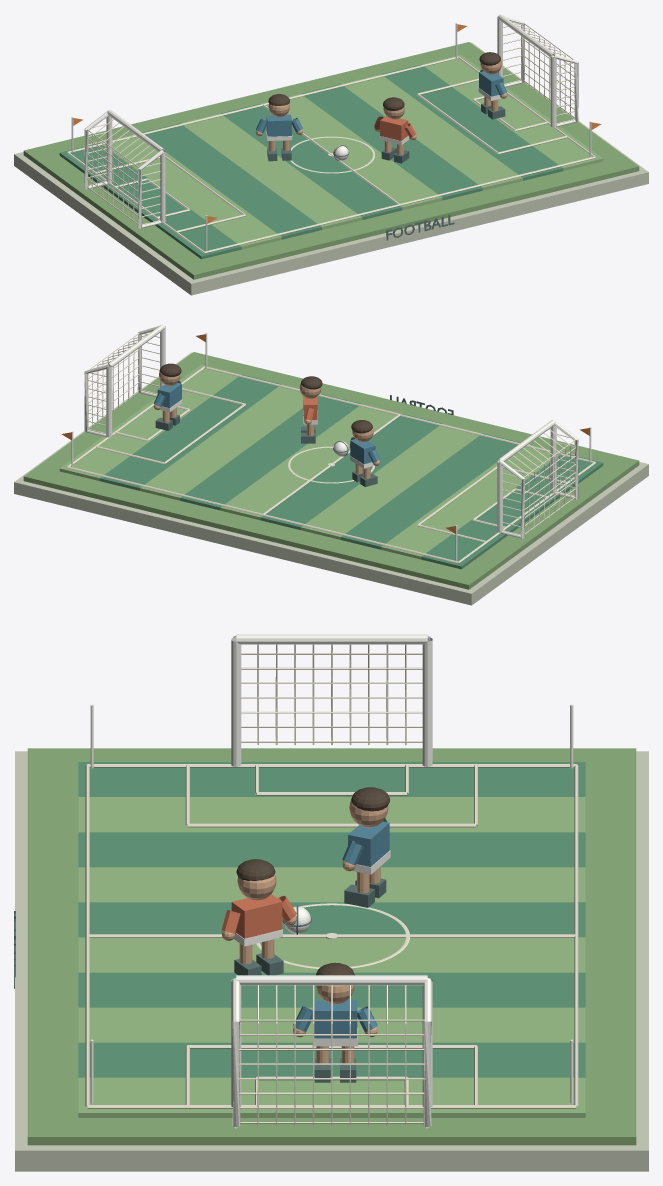
Rendered from football-pitch.glb.
3 views of the same model, one above another, from view 1: azimuth 30°, elevation 25°; view 2: azimuth 150°, elevation 25°; view 3: azimuth 270°, elevation 25° (orthographic). The views are drawn at different scales.
Parts seen in each view (by area): view 1: Putting Turf.002, Fairway.002, Lawn.002, Trim.002, Ivory.002, White.002, Jersey Blue, Steel.002, Skin, Jersey Coral, Hair; view 2: Putting Turf.002, Fairway.002, Lawn.002, Trim.002, Ivory.002, White.002, Jersey Blue, Skin, Steel.002, Hair; view 3: Fairway.002, Putting Turf.002, Lawn.002, Trim.002, Ivory.002, White.002, Jersey Blue, Skin, Steel.002, Jersey Coral, Hair.
Part boxes in pixels (left/top/right/bottom): Putting Turf.002: left=59, top=64, right=563, bottom=259; Fairway.002: left=100, top=54, right=603, bottom=249; Lawn.002: left=23, top=42, right=639, bottom=279; Trim.002: left=14, top=42, right=648, bottom=295; Ivory.002: left=67, top=21, right=595, bottom=253; White.002: left=71, top=14, right=591, bottom=250; Jersey Blue: left=256, top=69, right=506, bottom=136; Steel.002: left=267, top=103, right=505, bottom=240; Skin: left=255, top=59, right=507, bottom=155; Jersey Coral: left=374, top=116, right=416, bottom=140; Hair: left=268, top=52, right=500, bottom=110; Putting Turf.002: left=99, top=374, right=603, bottom=569; Fairway.002: left=59, top=364, right=562, bottom=559; Lawn.002: left=23, top=352, right=639, bottom=589; Trim.002: left=14, top=352, right=648, bottom=605; Ivory.002: left=67, top=331, right=595, bottom=563; White.002: left=71, top=324, right=591, bottom=560; Jersey Blue: left=154, top=381, right=379, bottom=464; Skin: left=153, top=371, right=380, bottom=478; Steel.002: left=155, top=395, right=453, bottom=486; Hair: left=160, top=363, right=372, bottom=433; Fairway.002: left=78, top=797, right=585, bottom=1117; Putting Turf.002: left=78, top=762, right=585, bottom=1077; Lawn.002: left=27, top=748, right=636, bottom=1145; Trim.002: left=15, top=751, right=648, bottom=1171; Ivory.002: left=85, top=644, right=578, bottom=1126; White.002: left=90, top=634, right=573, bottom=1128; Jersey Blue: left=293, top=818, right=389, bottom=1038; Skin: left=222, top=800, right=388, bottom=1065; Steel.002: left=14, top=878, right=386, bottom=1082; Jersey Coral: left=221, top=894, right=296, bottom=938; Hair: left=236, top=787, right=390, bottom=975.
Size of the model in its own units: 8.2 by 1.59 by 5.51.
